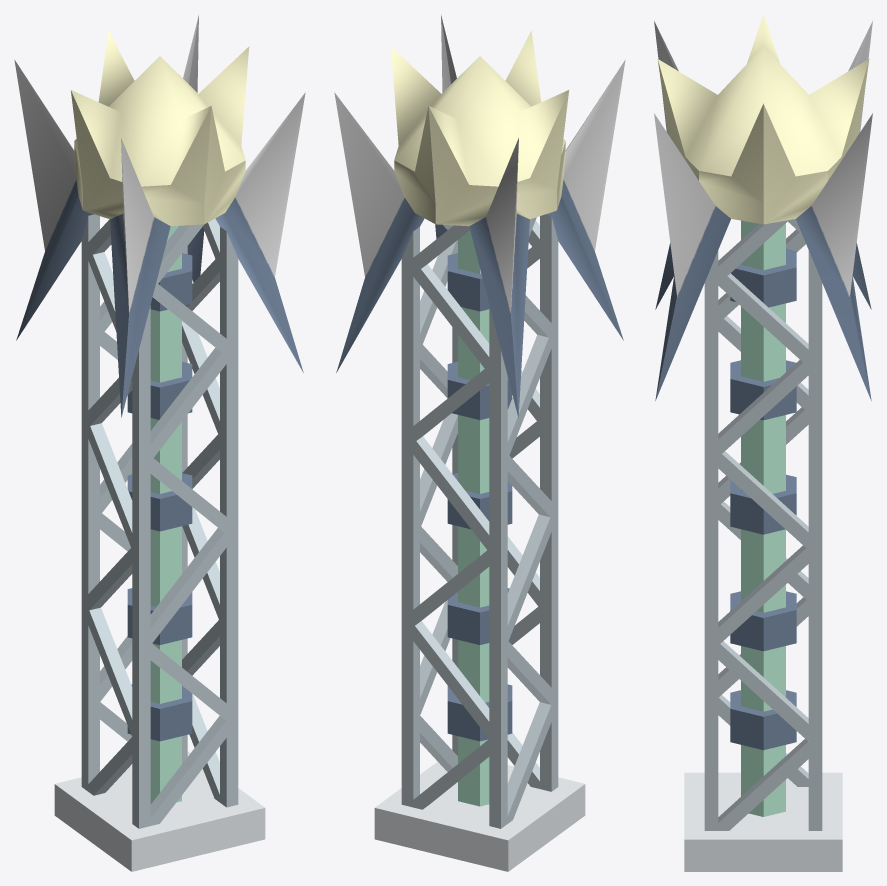
The model's file is DataStructure.fbx.
The picture shows the model from 3 angles, left to right: view 1: azimuth 30°, elevation 25°; view 2: azimuth 150°, elevation 25°; view 3: azimuth 270°, elevation 25°; orthographic projection. The views are drawn at different scales.
Parts seen in each view (by area): view 1: pCylinder12, pCube1, pCube5, pCube4, pCube3, pCube9, pCube24, pCube17, pCylinder9, pCube12, pCube22, pCylinder5 (+25 smaller); view 2: pCylinder12, pCube1, pCube2, pCube3, pCube4, pCube21, pCube10, pCube27, pCylinder7, pCube14, pCube7, pCube25 (+27 smaller); view 3: pCylinder12, pCube1, pCube2, pCube5, pCylinder7, pCylinder5, pCylinder3, pCylinder9, pCylinder4, pCube15, pCube11, pCube19 (+16 smaller).
Boxes of the visible parts, x1=… form: pCylinder12: x1=14, y1=15, x2=305, y2=417; pCube1: x1=54, y1=751, x2=265, y2=871; pCube5: x1=220, y1=227, x2=238, y2=807; pCube4: x1=132, y1=305, x2=150, y2=828; pCube3: x1=81, y1=214, x2=99, y2=791; pCube9: x1=145, y1=716, x2=234, y2=826; pCube24: x1=147, y1=347, x2=234, y2=461; pCube17: x1=148, y1=528, x2=230, y2=645; pCylinder9: x1=150, y1=309, x2=181, y2=382; pCube12: x1=83, y1=607, x2=133, y2=736; pCube22: x1=83, y1=423, x2=136, y2=548; pCylinder5: x1=150, y1=526, x2=181, y2=606; pCylinder12: x1=334, y1=15, x2=625, y2=417; pCube1: x1=374, y1=761, x2=585, y2=871; pCube2: x1=401, y1=227, x2=419, y2=807; pCube3: x1=489, y1=305, x2=507, y2=828; pCube4: x1=540, y1=214, x2=558, y2=791; pCube21: x1=407, y1=436, x2=495, y2=550; pCube10: x1=411, y1=621, x2=491, y2=738; pCube27: x1=405, y1=260, x2=495, y2=372; pCylinder7: x1=458, y1=415, x2=489, y2=493; pCube14: x1=503, y1=514, x2=556, y2=642; pCube7: x1=505, y1=702, x2=551, y2=823; pCube25: x1=507, y1=332, x2=552, y2=455; pCylinder12: x1=654, y1=14, x2=872, y2=400; pCube1: x1=684, y1=772, x2=842, y2=871; pCube2: x1=808, y1=250, x2=822, y2=830; pCube5: x1=704, y1=250, x2=718, y2=830; pCylinder7: x1=741, y1=415, x2=785, y2=493; pCylinder5: x1=741, y1=529, x2=785, y2=612; pCylinder3: x1=730, y1=690, x2=796, y2=750; pCylinder9: x1=741, y1=303, x2=785, y2=381; pCylinder4: x1=730, y1=591, x2=796, y2=651; pCube15: x1=712, y1=545, x2=816, y2=644; pCube11: x1=715, y1=641, x2=808, y2=740; pCube19: x1=711, y1=451, x2=808, y2=549.
Bounding box in the file's own units: 6.33 × 25.25 × 6.33.
1 material, 1 textured.
